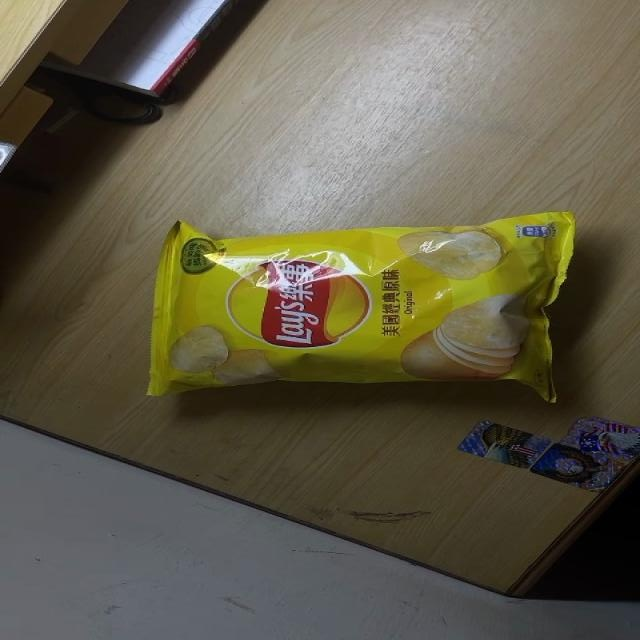Lay-s-original: (146, 210, 579, 400)
